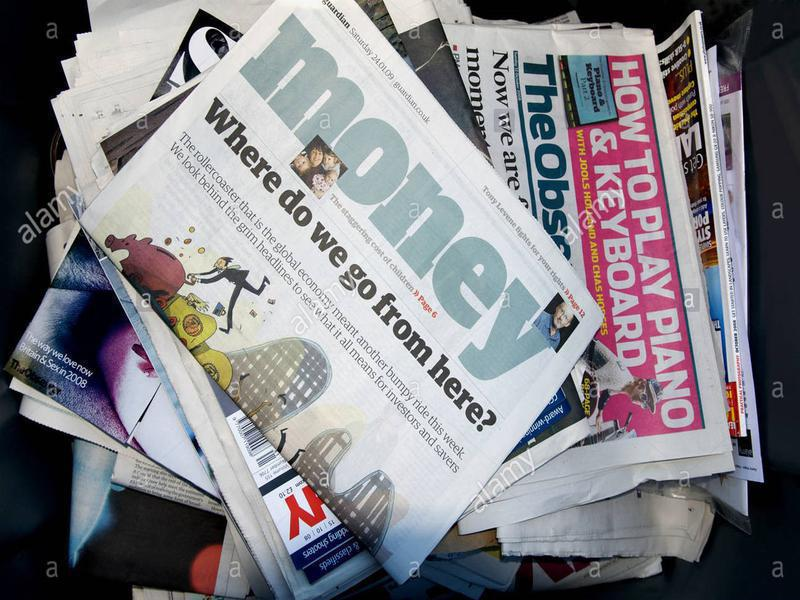paper: (6, 1, 769, 600)
